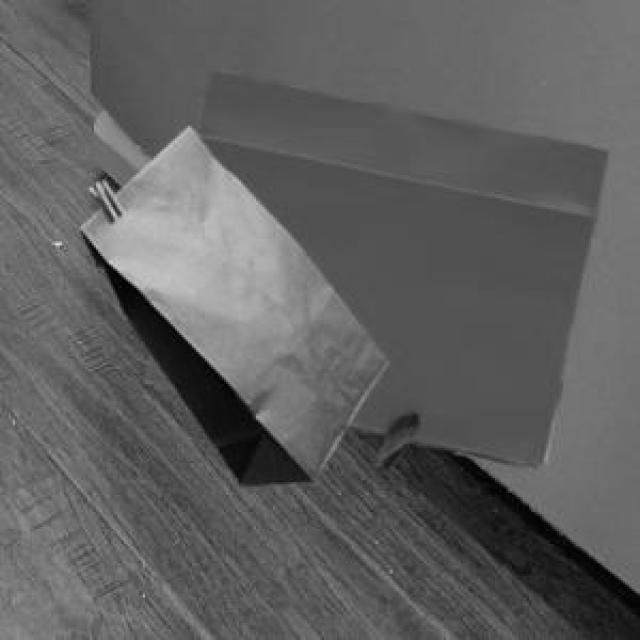paper: (141, 64, 604, 465), (77, 124, 384, 480)
